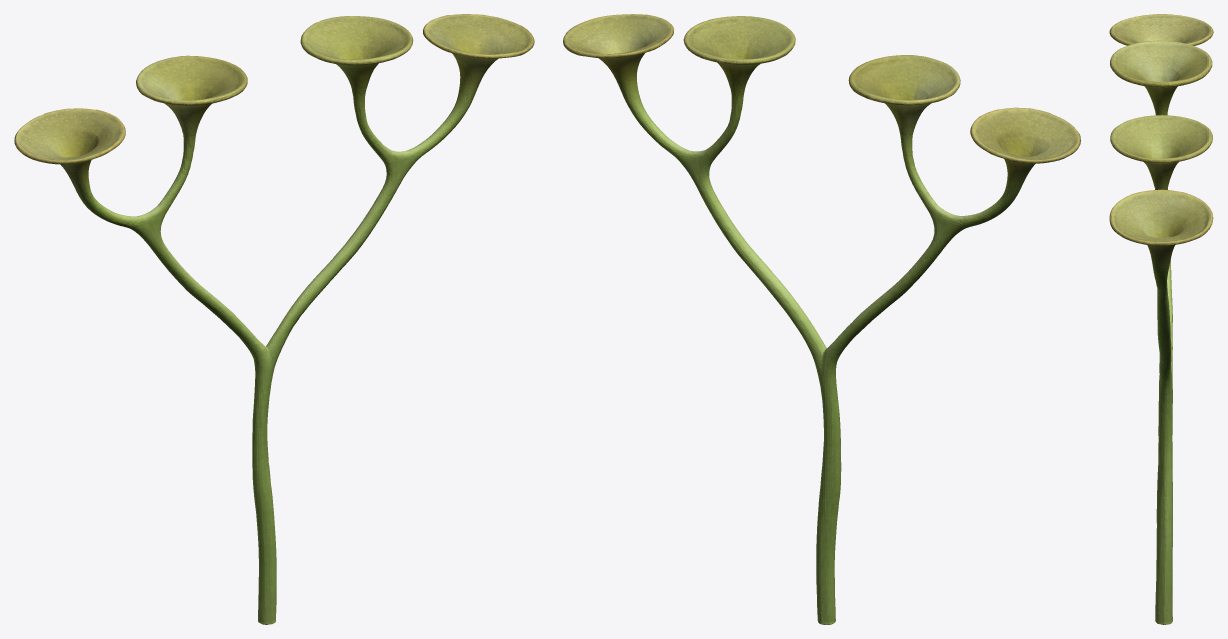
3 renders of one model, left to right at view 1: azimuth 30°, elevation 25°; view 2: azimuth 150°, elevation 25°; view 3: azimuth 270°, elevation 25°, orthographic. The views are drawn at different scales.
Visible parts, largest first — view 1: world; view 2: world; view 3: world.
Boxes of the visible parts, box(x1,y1,x2,y2) form: world: box(14, 14, 534, 624); world: box(563, 14, 1080, 624); world: box(1109, 14, 1213, 624).
Size of the model in its own units: 0.0658 by 0.0702 by 0.0126.
Materials: 1 (1 with a texture image).
